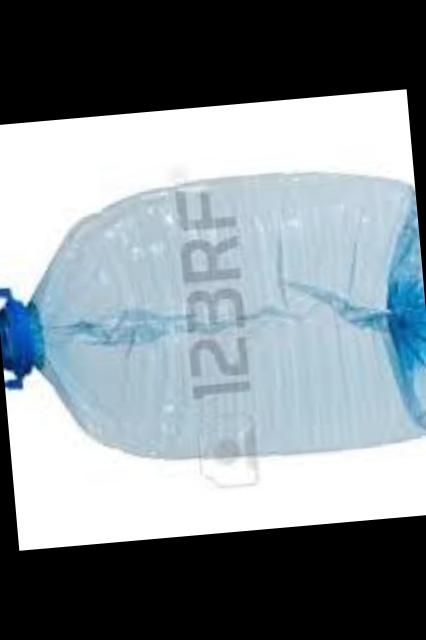plastic: (0, 178, 426, 461)
